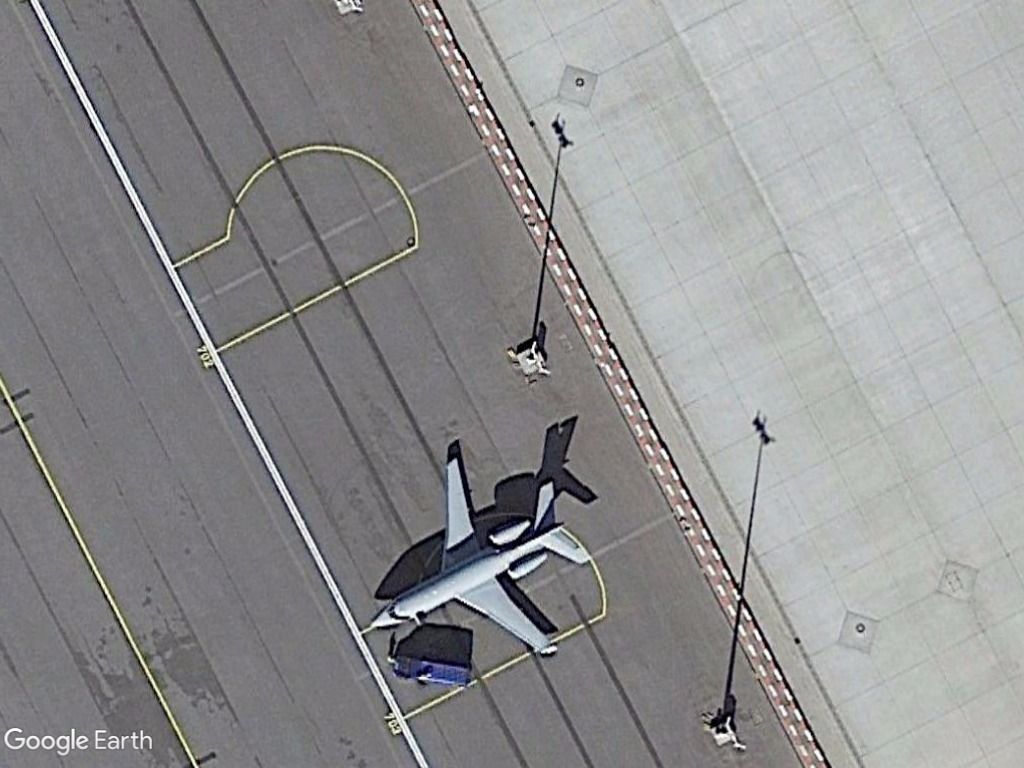chartered: (368, 448, 589, 664)
